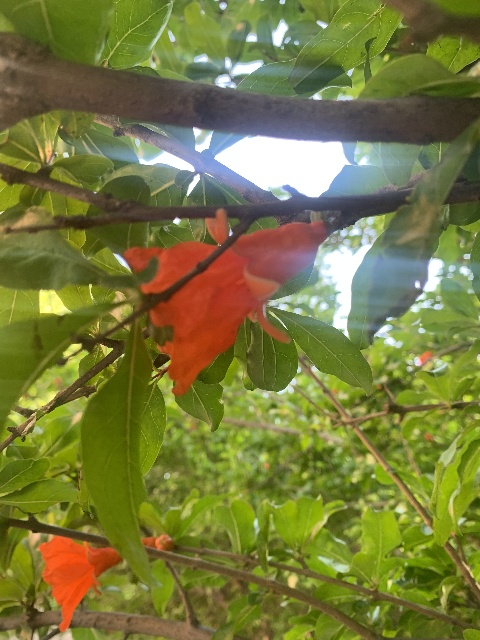bud: (155, 534, 174, 551)
flower: (123, 207, 326, 395), (37, 533, 161, 632)
